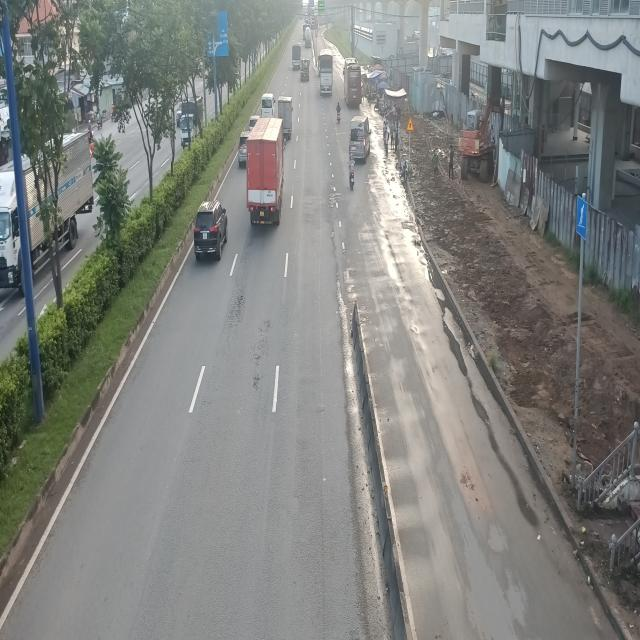car: (193, 199, 229, 261)
coach: (343, 59, 362, 107)
truck: (248, 121, 284, 230), (317, 47, 335, 98), (278, 96, 293, 140)
van: (348, 116, 369, 164), (260, 92, 274, 118)
